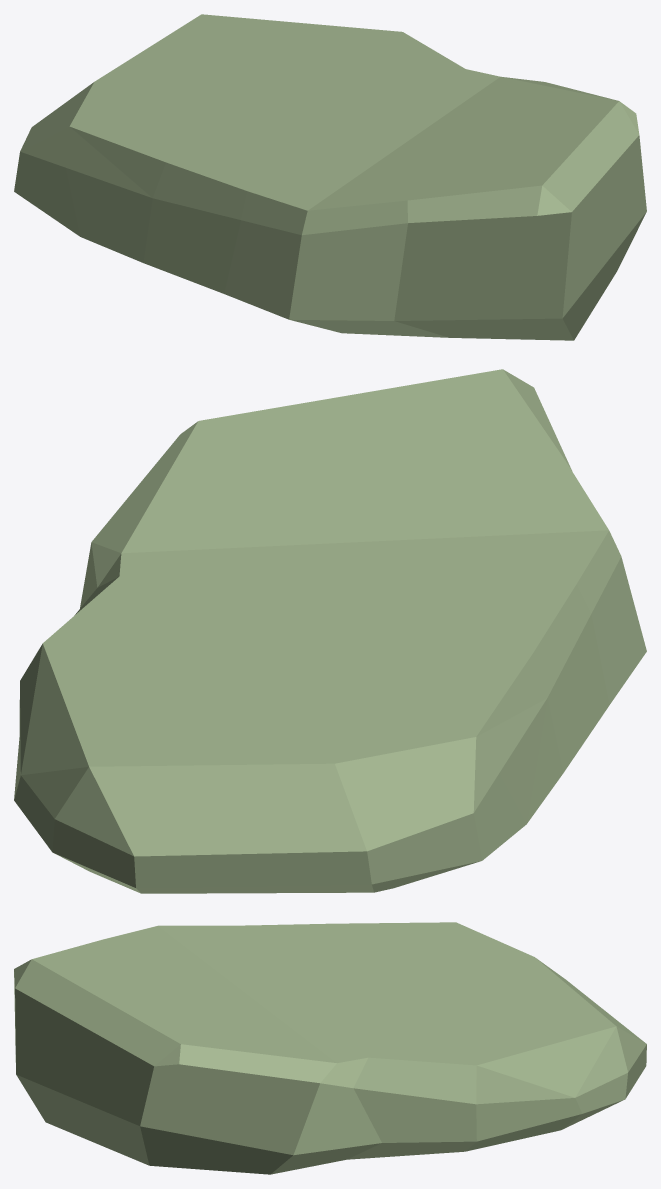
Rendered from EA_Swamp_RockBig_01b.glb.
The picture shows the model from 3 angles, top to bottom: view 1: azimuth 30°, elevation 25°; view 2: azimuth 150°, elevation 25°; view 3: azimuth 270°, elevation 25°; orthographic projection. The views are drawn at different scales.
Parts seen in each view (by area): view 1: EA_Swamp_RockBig_01b; view 2: EA_Swamp_RockBig_01b; view 3: EA_Swamp_RockBig_01b.
Boxes of the visible parts, x1,y1,x2,y2 form: EA_Swamp_RockBig_01b: [14, 14, 646, 340]; EA_Swamp_RockBig_01b: [14, 369, 646, 893]; EA_Swamp_RockBig_01b: [14, 922, 646, 1174].
Bounding box in the file's own units: 3.95 × 1.46 × 5.71.
1 material, 1 textured.
